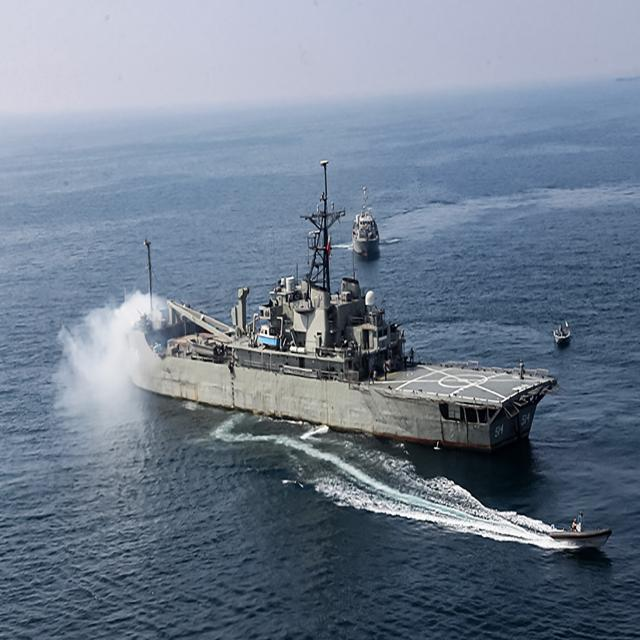navalvessels: (125, 238, 544, 490), (334, 198, 380, 268)
